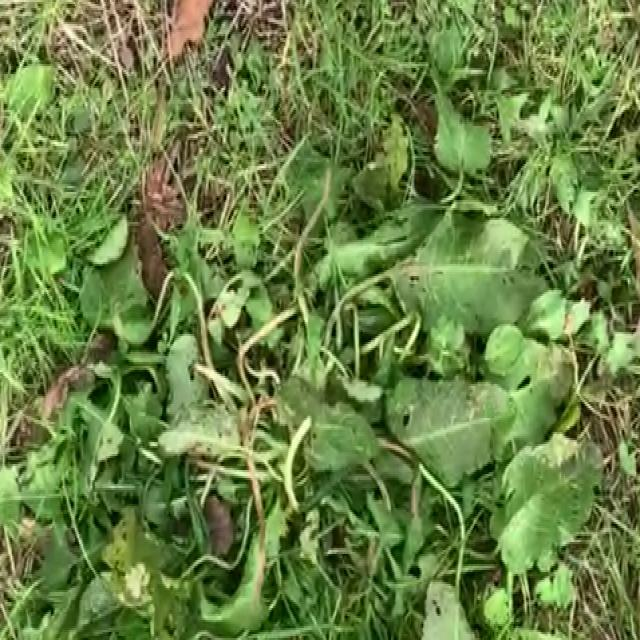organic waste: (17, 94, 600, 620)
